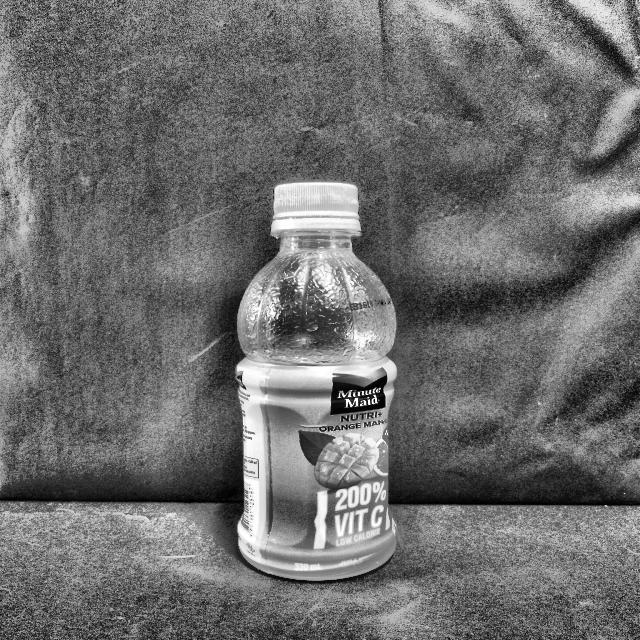Plastic-Bottle: (235, 180, 402, 582)
